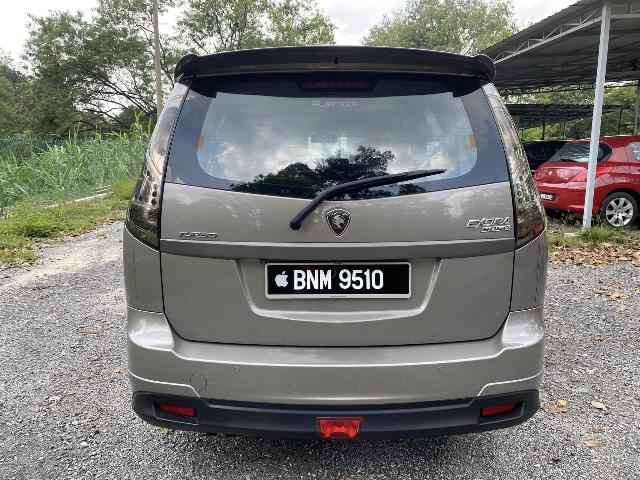License_Plate: (270, 265, 404, 295)
car: (117, 47, 555, 443)
